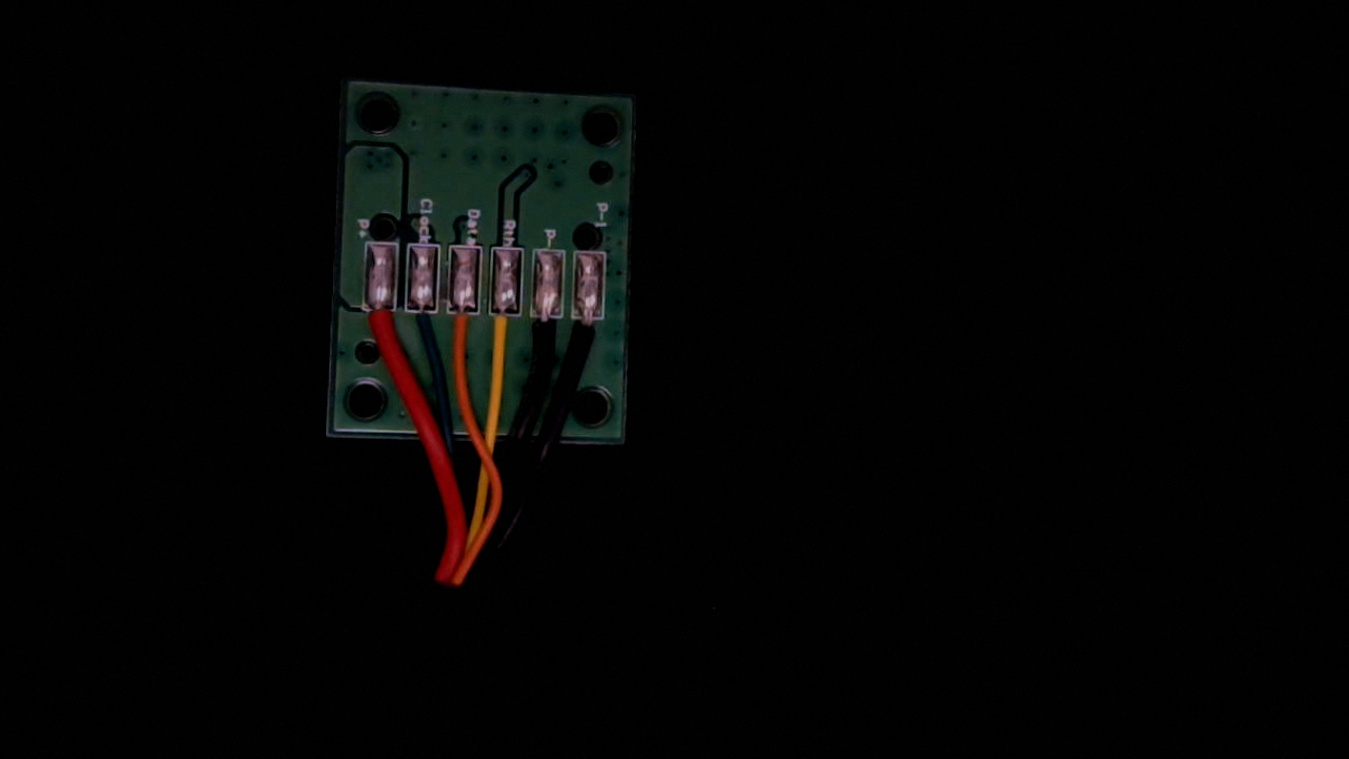Black: (528, 297, 563, 366)
Black1: (567, 297, 605, 373)
Green: (404, 293, 442, 355)
Orange: (445, 295, 475, 362)
Red: (362, 294, 398, 354)
Yellow: (488, 295, 521, 364)
